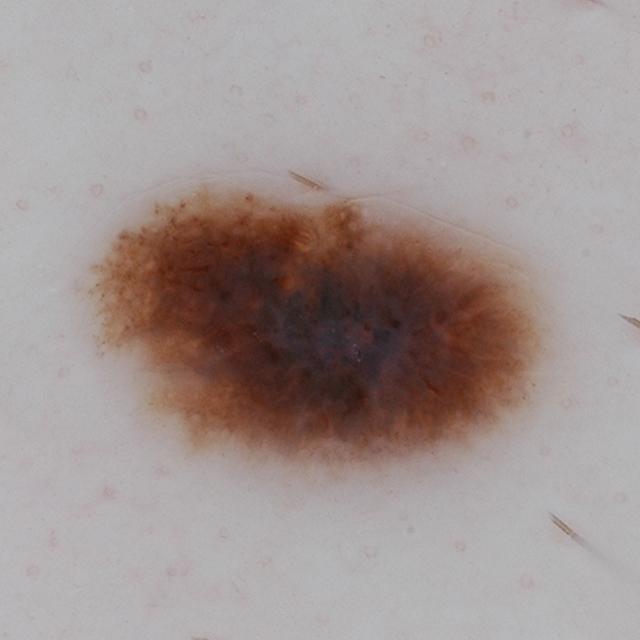Skin-Cancer Melanoma: (51, 45, 593, 555)
